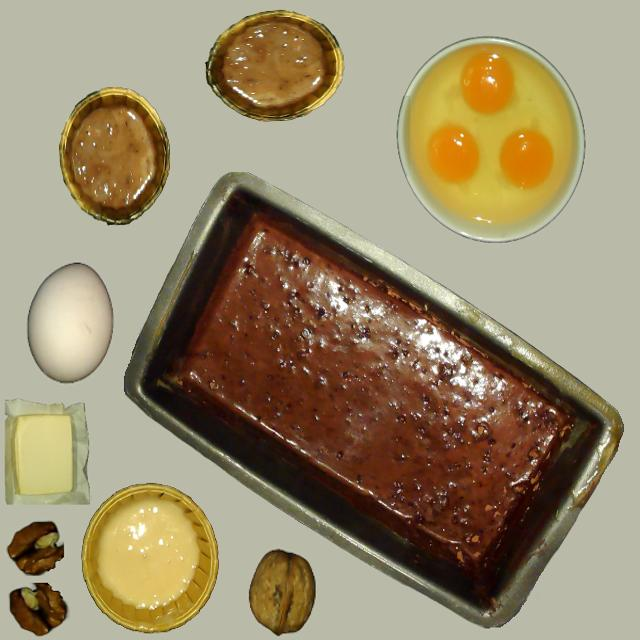Egg: (461, 52, 515, 114), (499, 129, 554, 189), (428, 125, 480, 184)
Walnut: (248, 551, 315, 635)
